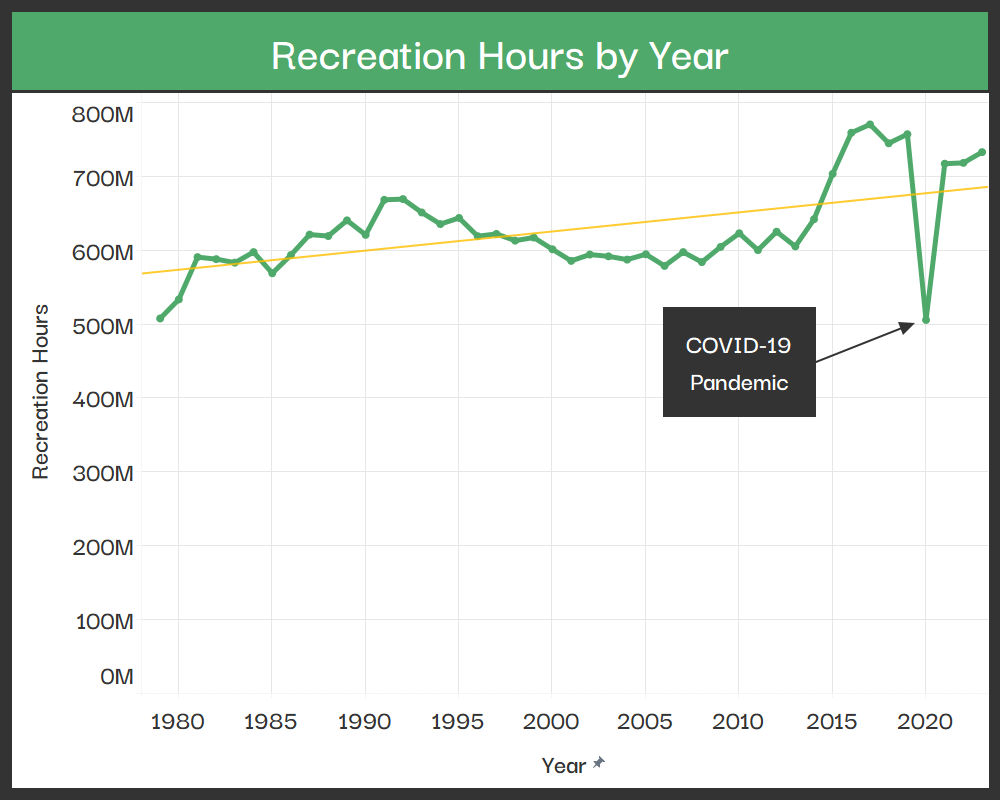

The dashboard page shown, as its layout file describes it:
{"tool":"tableau","page":{"name":"RH by Year","canvas":[1000,800],"ordinal":2},"visuals":[{"type":"worksheet","title":"Recreation Hours by Year","mark":"Automatic","rows":["RecreationHours"],"cols":["Calculation_1088182269108641794"],"box":[8,8,984,784]}]}

Visuals, with their boxes in screenshot pixels (x1, y1, x2, y2), scaled from the page's 1000x800 canvas onto the 1000x800 screenshot:
"Recreation Hours by Year" worksheet: detection(8, 8, 992, 792)
